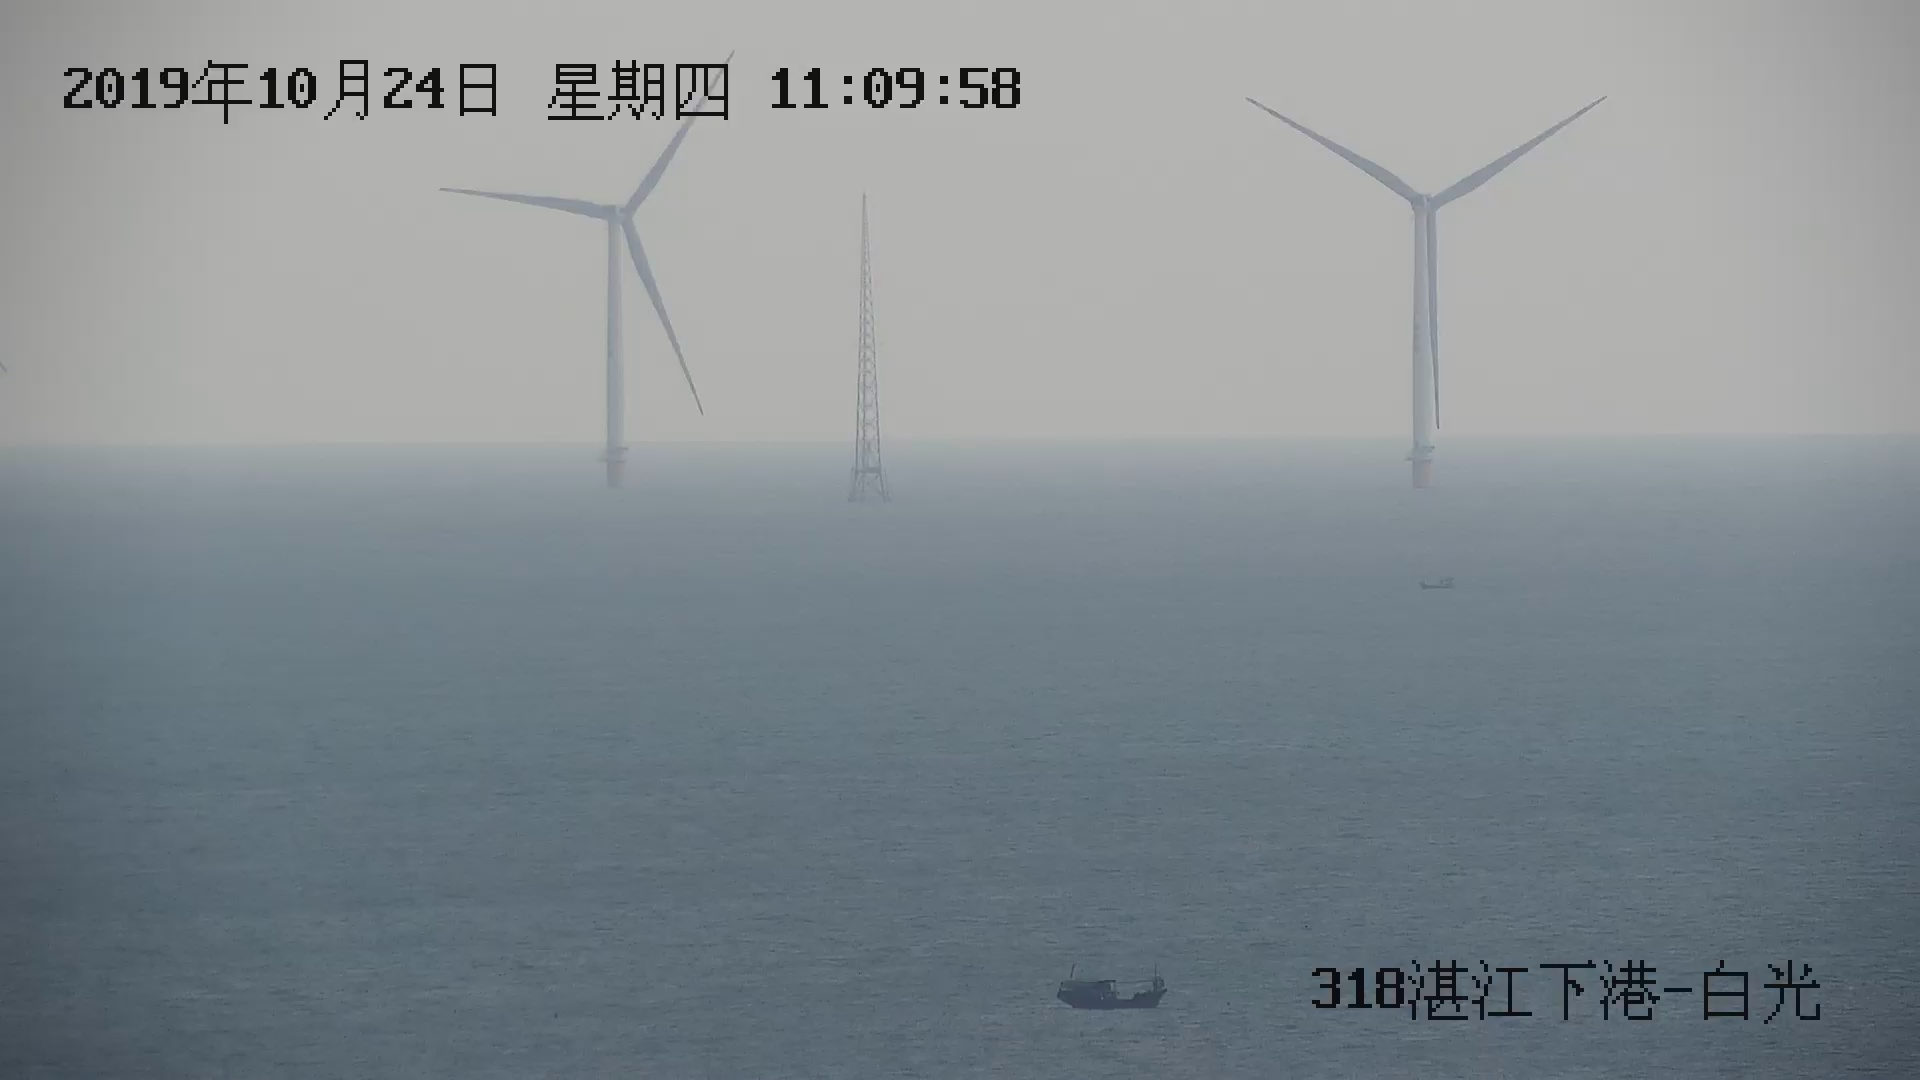ship: (1058, 971, 1168, 1011)
